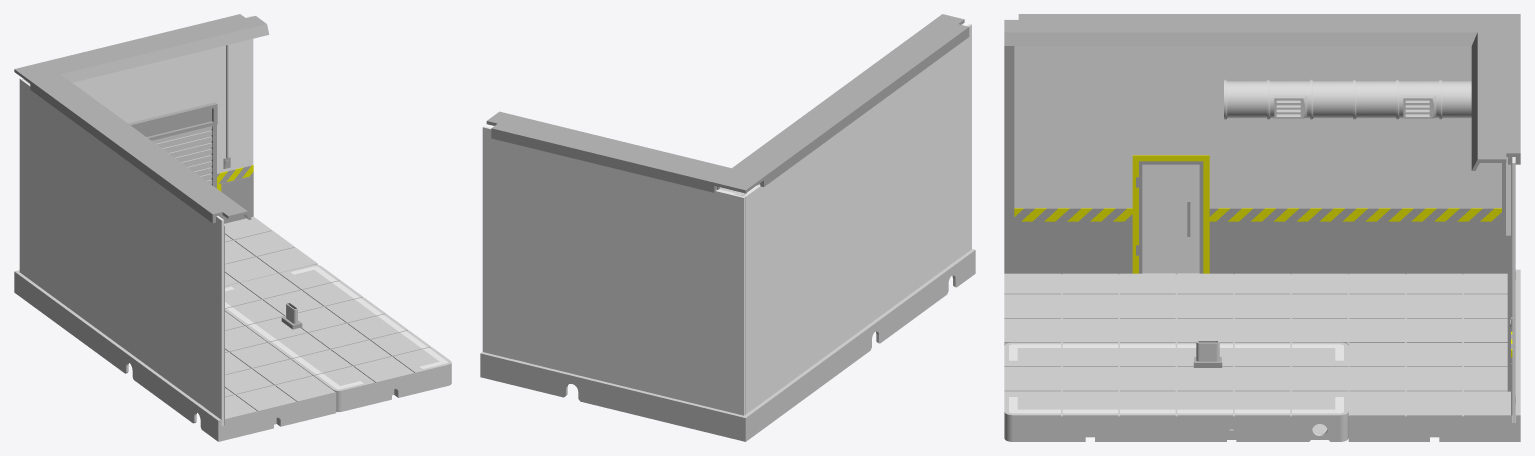
Rendered from starter-set_garage.glb.
The picture shows the model from 3 angles, left to right: view 1: azimuth 30°, elevation 25°; view 2: azimuth 150°, elevation 25°; view 3: azimuth 270°, elevation 25°; orthographic projection. The views are drawn at different scales.
Visible parts, largest first — view 1: Seitenwand_Garage-1, GridDock_Charge-1, Werkstattboden-1, Wand_Garage-1, Artika_Winkel-1; view 2: Wand_Garage-1, Seitenwand_Garage-1, Artika_Winkel-1, Werkstattboden-1; view 3: Seitenwand_Garage-1, Werkstattboden-1, GridDock_Charge-1, Artika_Winkel-1, Lüftung-1, Wand_Garage-1, USB-Kabel_NetDot_V2_hybrid_V3-1.
Boxes of the visible parts, box(x1,y1,x2,y2) form: Seitenwand_Garage-1: box(21, 79, 224, 425); GridDock_Charge-1: box(225, 264, 451, 412); Werkstattboden-1: box(14, 216, 336, 441); Wand_Garage-1: box(19, 16, 253, 272); Artika_Winkel-1: box(14, 14, 269, 223); Wand_Garage-1: box(482, 126, 745, 415); Seitenwand_Garage-1: box(742, 23, 971, 414); Artika_Winkel-1: box(486, 14, 969, 193); Werkstattboden-1: box(480, 249, 975, 441); Seitenwand_Garage-1: box(1004, 19, 1507, 274); Werkstattboden-1: box(1004, 269, 1520, 441); GridDock_Charge-1: box(1004, 342, 1348, 441); Artika_Winkel-1: box(1004, 14, 1520, 170); Lüftung-1: box(1224, 79, 1471, 119); Wand_Garage-1: box(1506, 157, 1515, 422); USB-Kabel_NetDot_V2_hybrid_V3-1: box(1194, 340, 1221, 367).
Bounding box in the file's own units: 0.12 × 0.1087 × 0.18.
